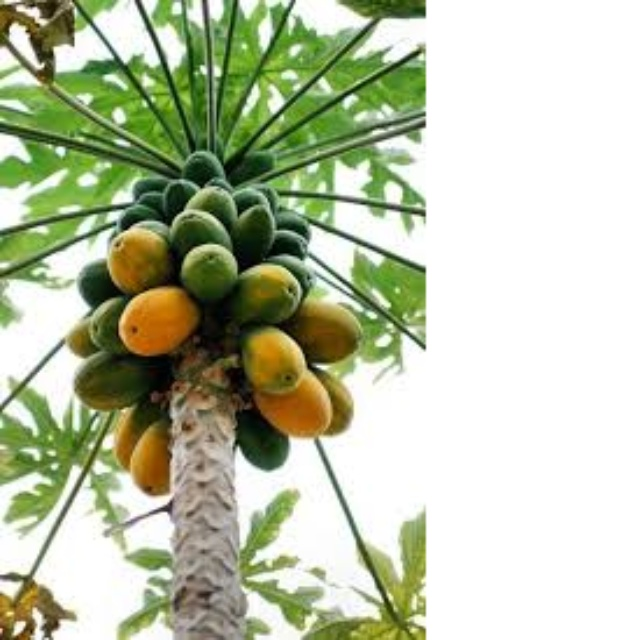du_du: (119, 284, 202, 351), (235, 324, 306, 394), (75, 352, 161, 406), (233, 265, 305, 321), (103, 231, 176, 285), (130, 421, 175, 501), (302, 301, 361, 360), (171, 211, 234, 258)
